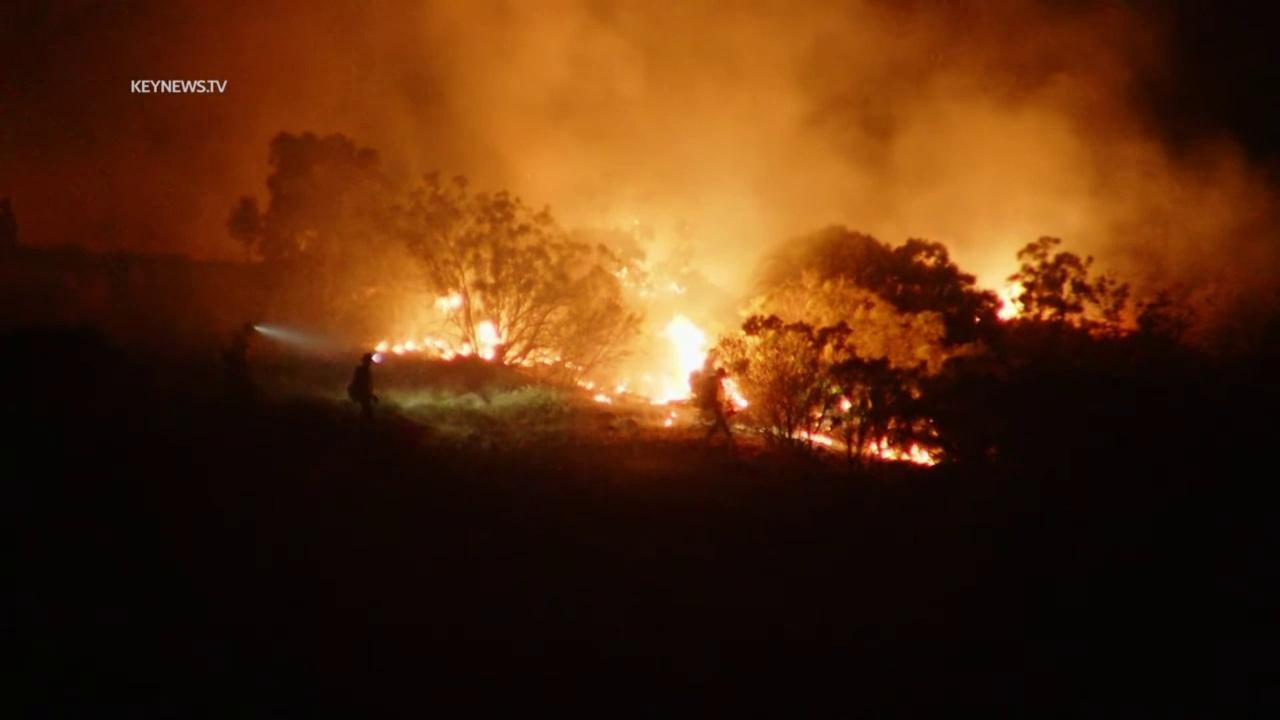fire: (636, 311, 713, 406), (368, 320, 506, 363), (867, 433, 937, 467), (989, 279, 1026, 324), (433, 291, 465, 311), (797, 430, 833, 447), (727, 392, 750, 413), (590, 393, 616, 408), (837, 394, 853, 414), (661, 410, 677, 428)
smoke: (0, 0, 1280, 382)
